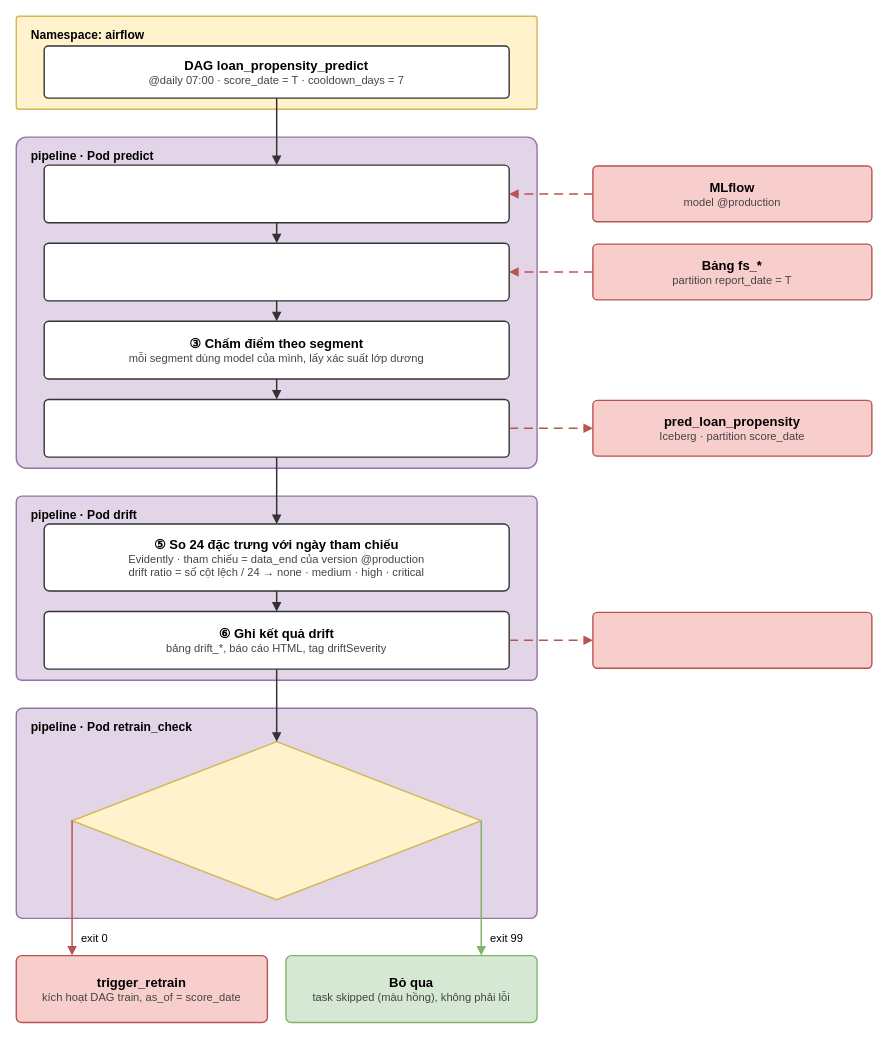
This 889x1040 diagram has some shape labels left out. Here are the shapes that lost their labels. From the top down, the box of each, then its label:
(43, 164, 509, 223): ① Chốt version @production đọc alias từng segment, đổi thành số version cố định
(43, 242, 509, 301): ② Đọc đặc trưng ngày T 6 bảng fs_*, report_date = T, ghép theo master_account
(43, 398, 509, 457): ④ Ghi bảng điểm ghi đè partition score_date = T
(592, 611, 872, 668): drift_* + báo cáo HTML Iceberg · s3://warehouse/reports/drift
(71, 741, 482, 900): retrain_check critical + có nhãn mới hơn data_end + đã quá cooldown 7 ngày?
